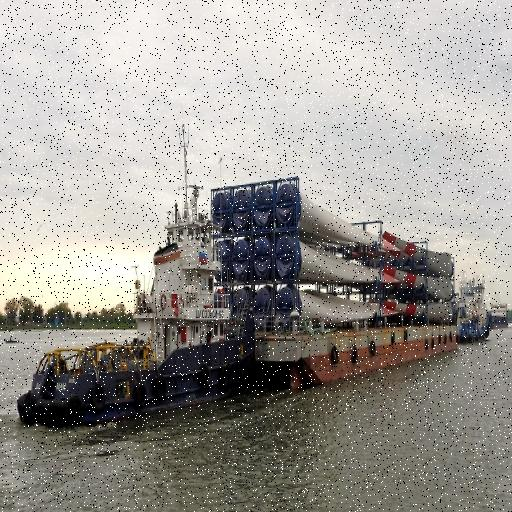tugboat: (15, 178, 258, 436)
